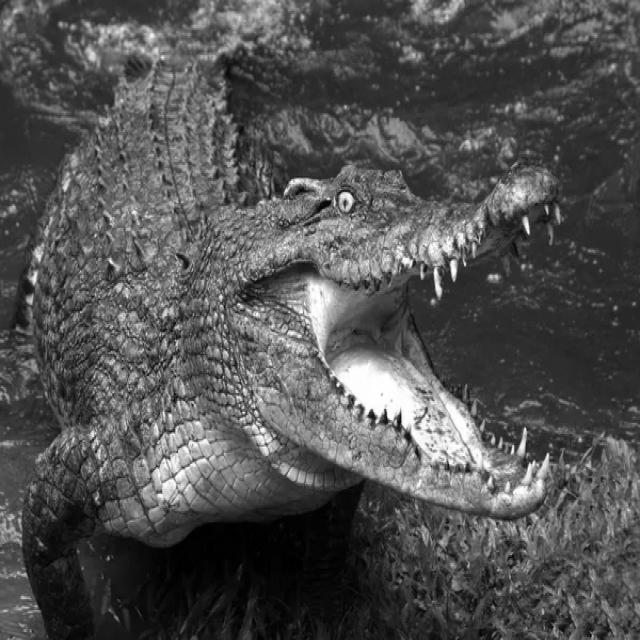Animal: (16, 60, 562, 639)
